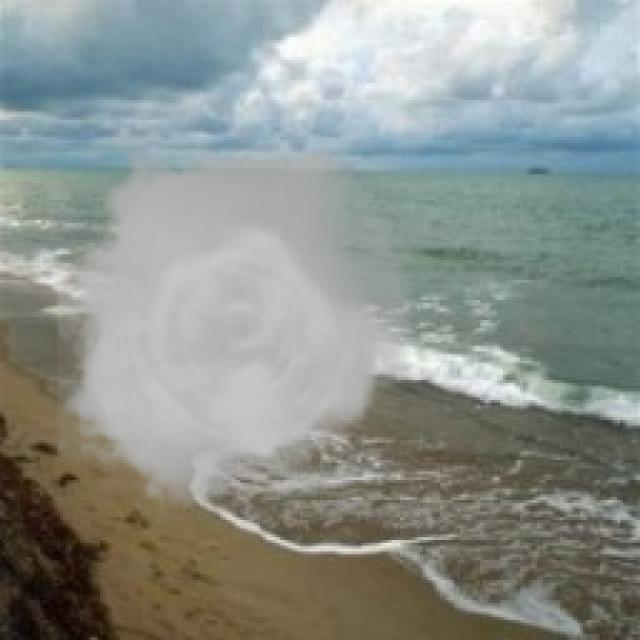smoke: (57, 129, 414, 520)
